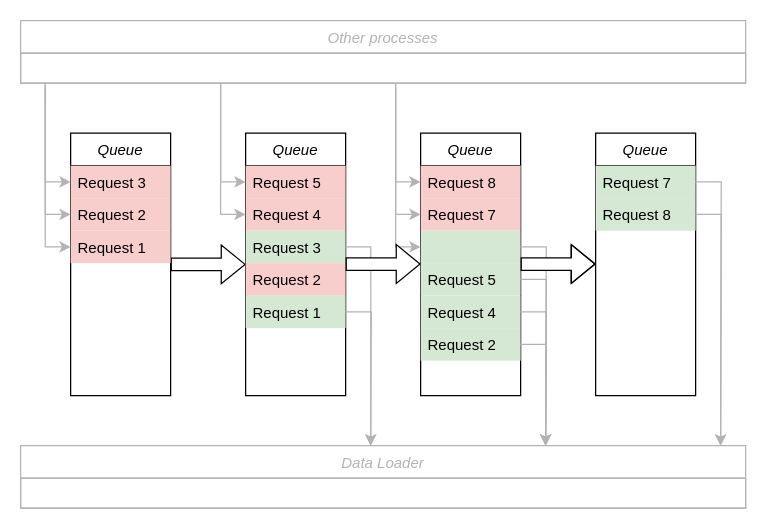
Some shapes in this 766 by 529 pixel diagram are drawn without their labels. The shapes that lost their labels are listed below. From the top down, each one's box as (x1, y1, x2, y2) in pixels, then its label:
(19, 52, 746, 83): Generate and Send Data
(420, 230, 520, 262): Request 6
(19, 477, 746, 508): Yield Data to Dataloader
